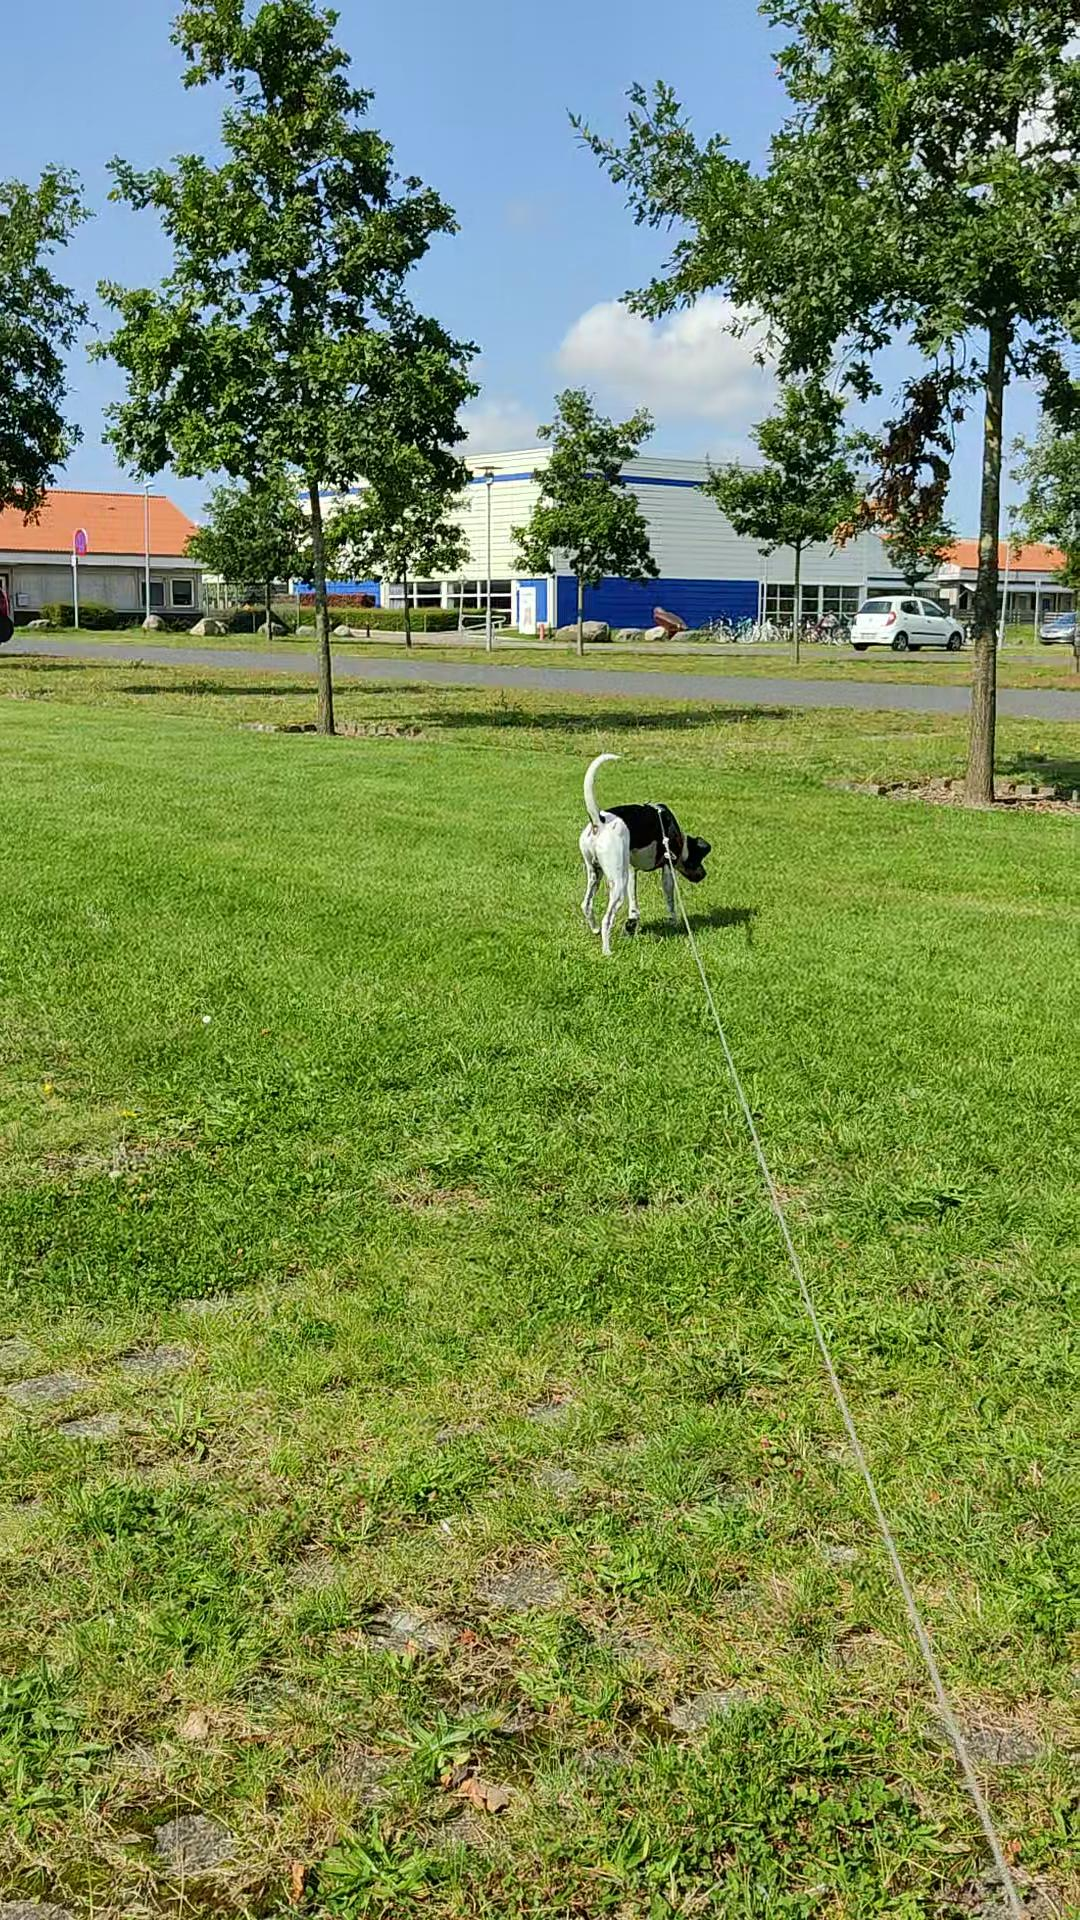Dog: (575, 748, 712, 957)
